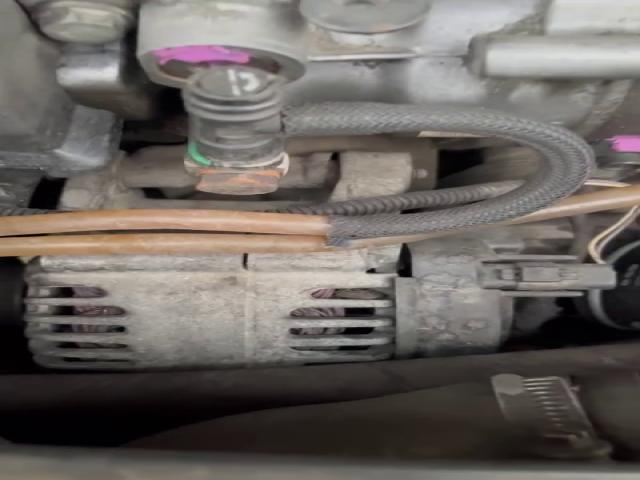alternator: (19, 221, 631, 373)
high_pressure_pump: (131, 1, 640, 169)
